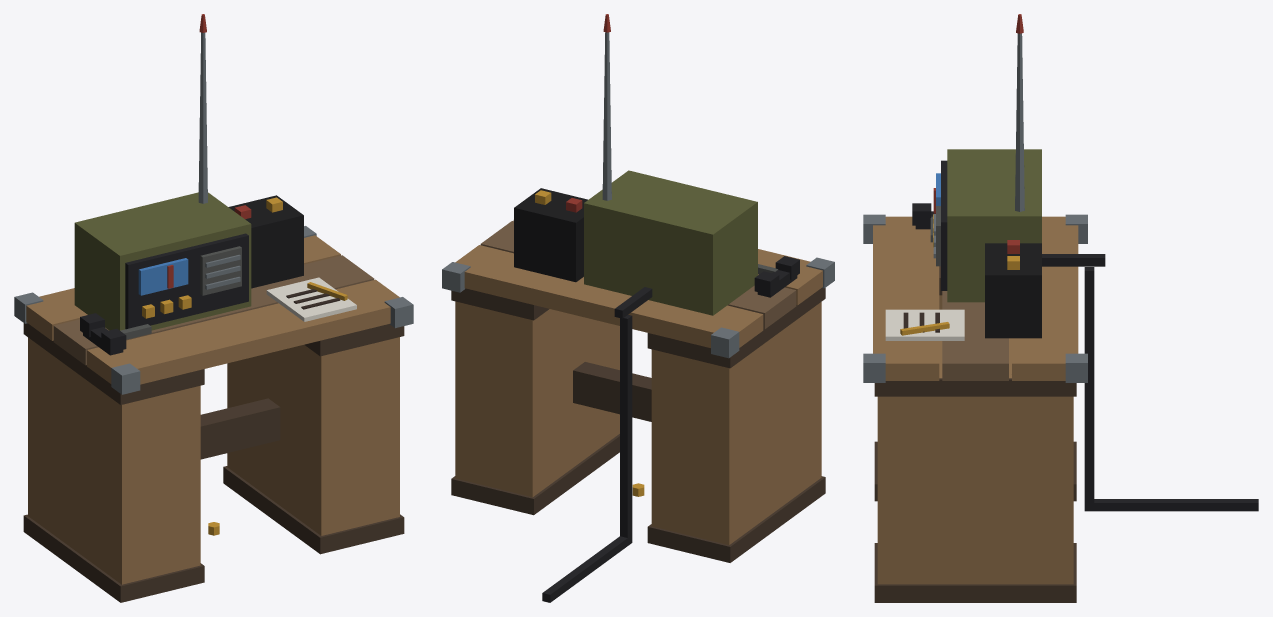
Rendered from radio_console.glb.
The picture shows the model from 3 angles, left to right: view 1: azimuth 30°, elevation 25°; view 2: azimuth 150°, elevation 25°; view 3: azimuth 270°, elevation 25°; orthographic projection. The views are drawn at different scales.
Visible parts, largest first — view 1: radio_console; view 2: radio_console; view 3: radio_console.
Boxes of the visible parts, bbox=[...] form: radio_console: bbox=[14, 14, 413, 602]; radio_console: bbox=[442, 14, 834, 602]; radio_console: bbox=[863, 14, 1258, 602].
Size of what is drawn, in the model's own units: 1.11 by 1.82 by 1.25.
3 materials, 3 textured.
